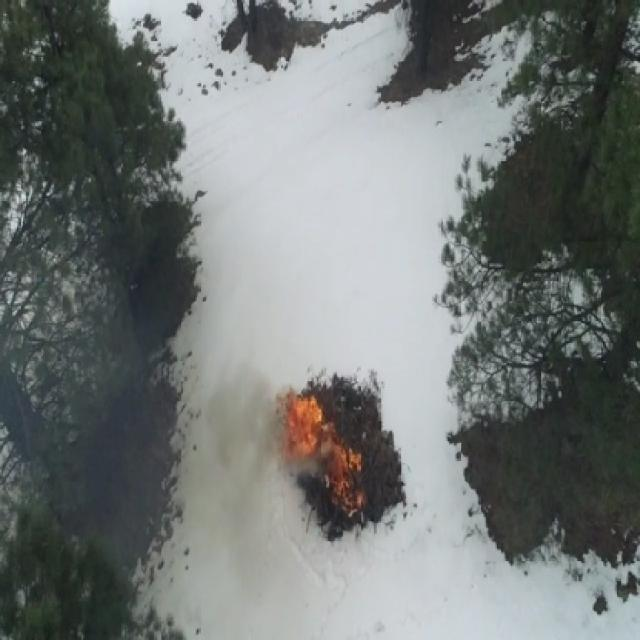Fire: (287, 392, 322, 457), (328, 424, 346, 485), (330, 485, 364, 510), (345, 449, 363, 474)
